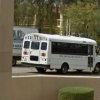buses: (18, 32, 100, 76)
